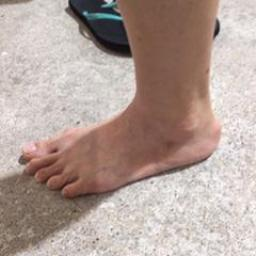Lateral View -Left Foot-: (16, 66, 227, 203)
